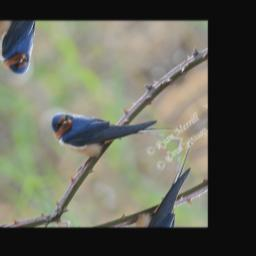Swallow: (43, 56, 184, 196)
